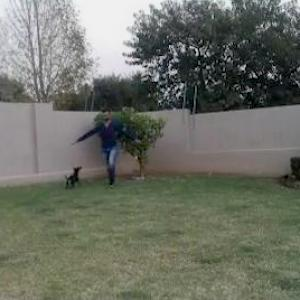land: (83, 94, 160, 198)
